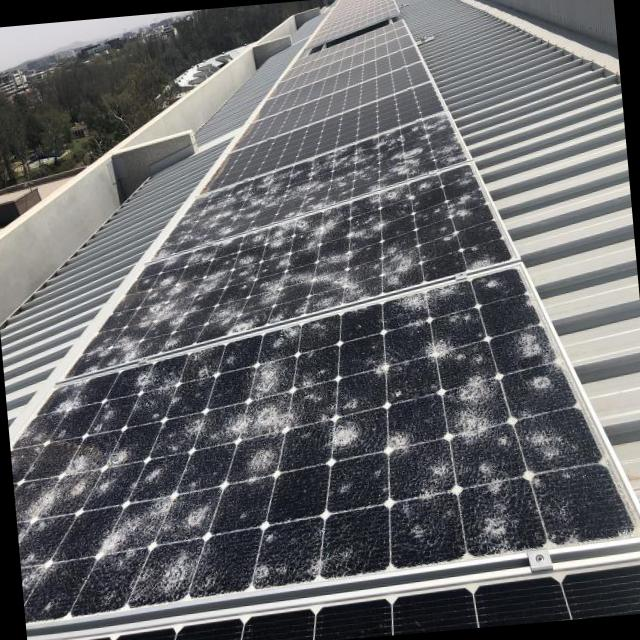faulty: (11, 110, 640, 625), (210, 352, 387, 491), (266, 228, 364, 299), (248, 172, 316, 218)
no faulty: (194, 23, 445, 194)
